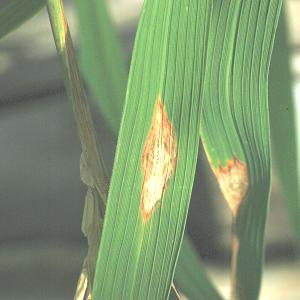1 RiceBlast: (123, 88, 182, 234), (204, 155, 268, 224)
